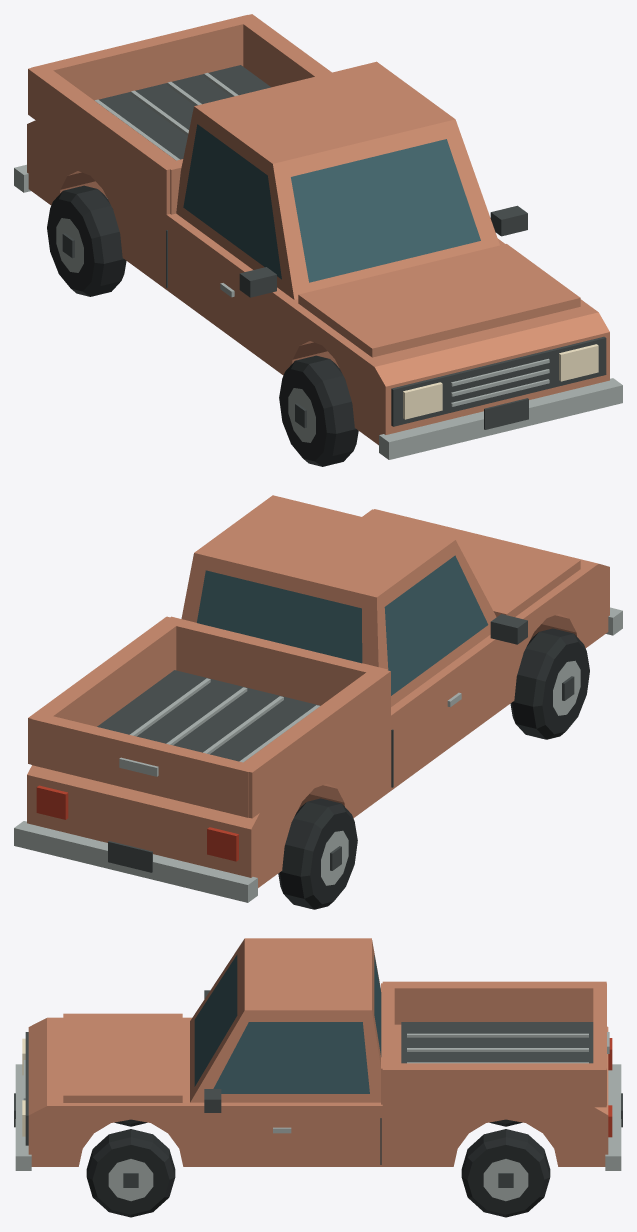
File: Pickup.fbx
3 renders of one model, top to bottom at view 1: azimuth 30°, elevation 25°; view 2: azimuth 150°, elevation 25°; view 3: azimuth 270°, elevation 25°, orthographic. The views are drawn at different scales.
Visible parts, largest first — view 1: Body, Wheel_Front_Left, Wheel_Rear_Left; view 2: Body, Wheel_Front_Left, Wheel_Rear_Left; view 3: Body, Wheel_Front_Right, Wheel_Rear_Right.
Boxes of the visible parts, x1,y1,x2,y2 form: Body: (14, 14, 622, 459); Wheel_Front_Left: (279, 355, 358, 466); Wheel_Rear_Left: (47, 185, 126, 296); Body: (14, 495, 622, 902); Wheel_Front_Left: (510, 628, 589, 739); Wheel_Rear_Left: (278, 798, 357, 909); Body: (14, 938, 622, 1170); Wheel_Front_Right: (86, 1129, 175, 1217); Wheel_Rear_Right: (461, 1129, 550, 1217).
Bounding box in the file's own units: 228 × 188 × 536.
